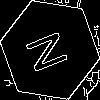N: (25, 25, 78, 76)
